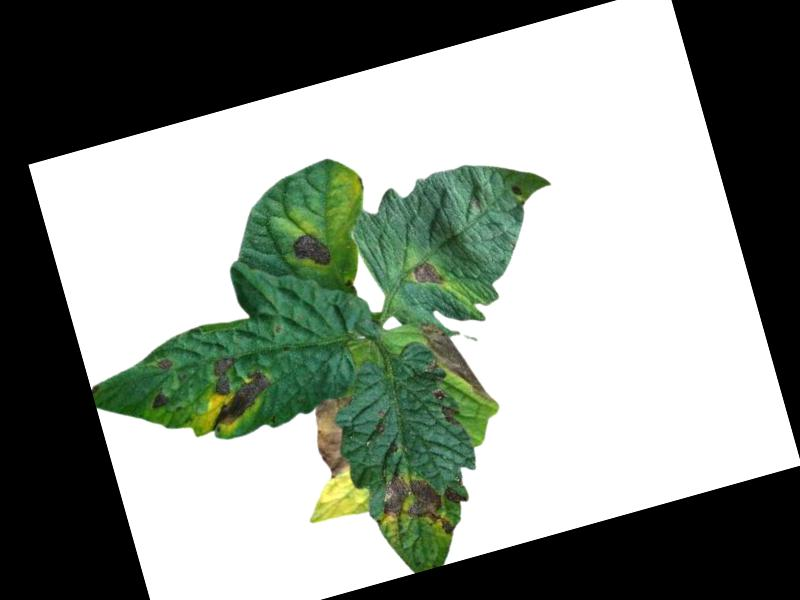Early_blight: (420, 309, 496, 413), (193, 345, 280, 431), (375, 463, 458, 551), (304, 390, 372, 480), (290, 228, 334, 274), (407, 252, 447, 290), (433, 385, 460, 429), (442, 481, 471, 510), (148, 389, 174, 410), (155, 354, 174, 371), (509, 180, 523, 197)
